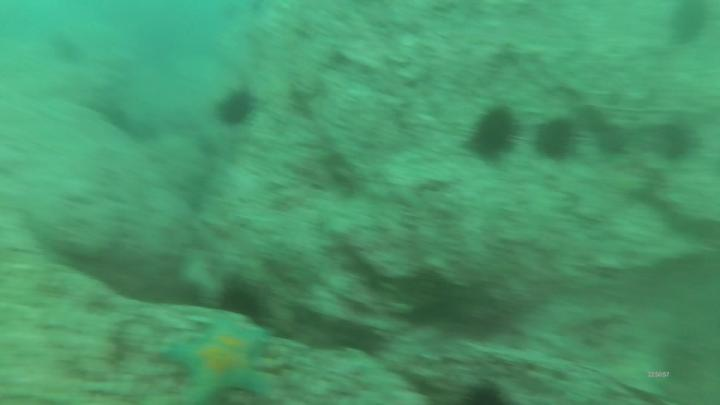echinus: (462, 101, 524, 169), (532, 116, 584, 164), (665, 1, 716, 46), (647, 120, 700, 163), (215, 87, 261, 128), (455, 378, 516, 405), (48, 33, 85, 66)
starfish: (164, 313, 278, 405)
